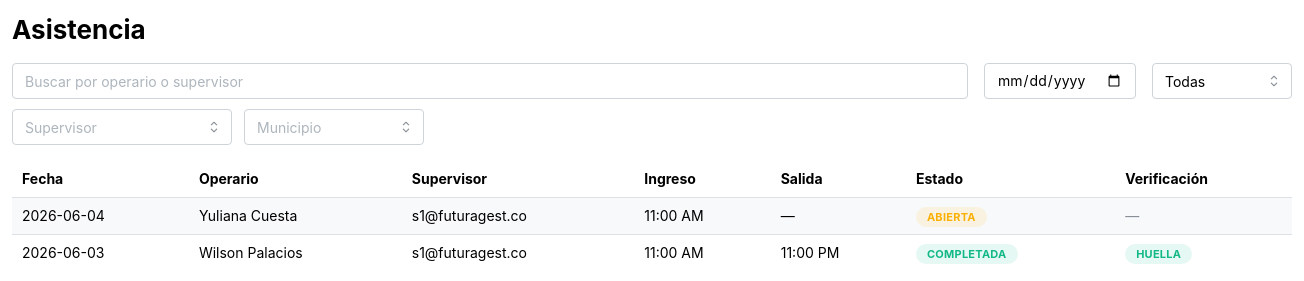
Test: AsistenciaPage › filters by date
The width and height of the screenshot is (1304, 281).
Type "2026-06-03" into the date field named "Filtrar por fecha". click: (1060, 81)
box: left=984, top=63, right=1136, bottom=99
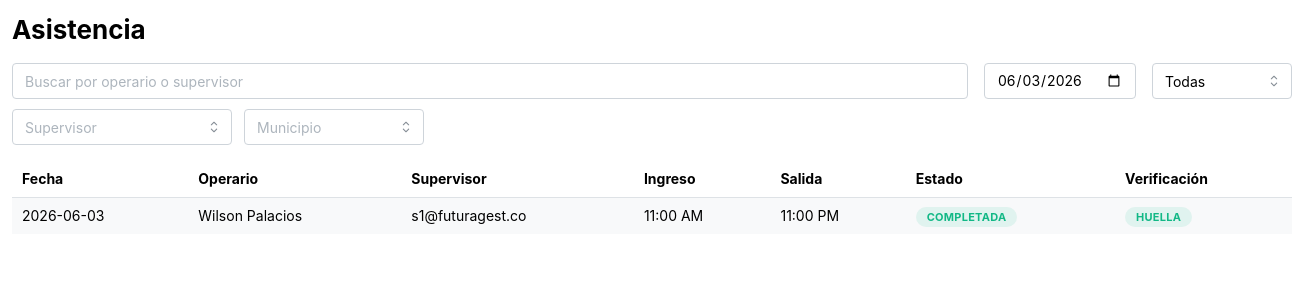
expect the text "Wilson Palacios" is shown: met, box left=188, top=197, right=401, bottom=234
expect the text "Yuliana Cuesta" is gone: met
